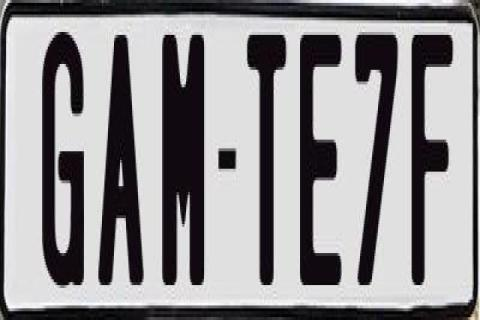0: (354, 29, 402, 294)
A: (94, 35, 142, 294)
E: (300, 35, 344, 291)
F: (410, 26, 458, 294)
G: (41, 23, 89, 297)
M: (158, 29, 204, 297)
T: (248, 32, 294, 291)
